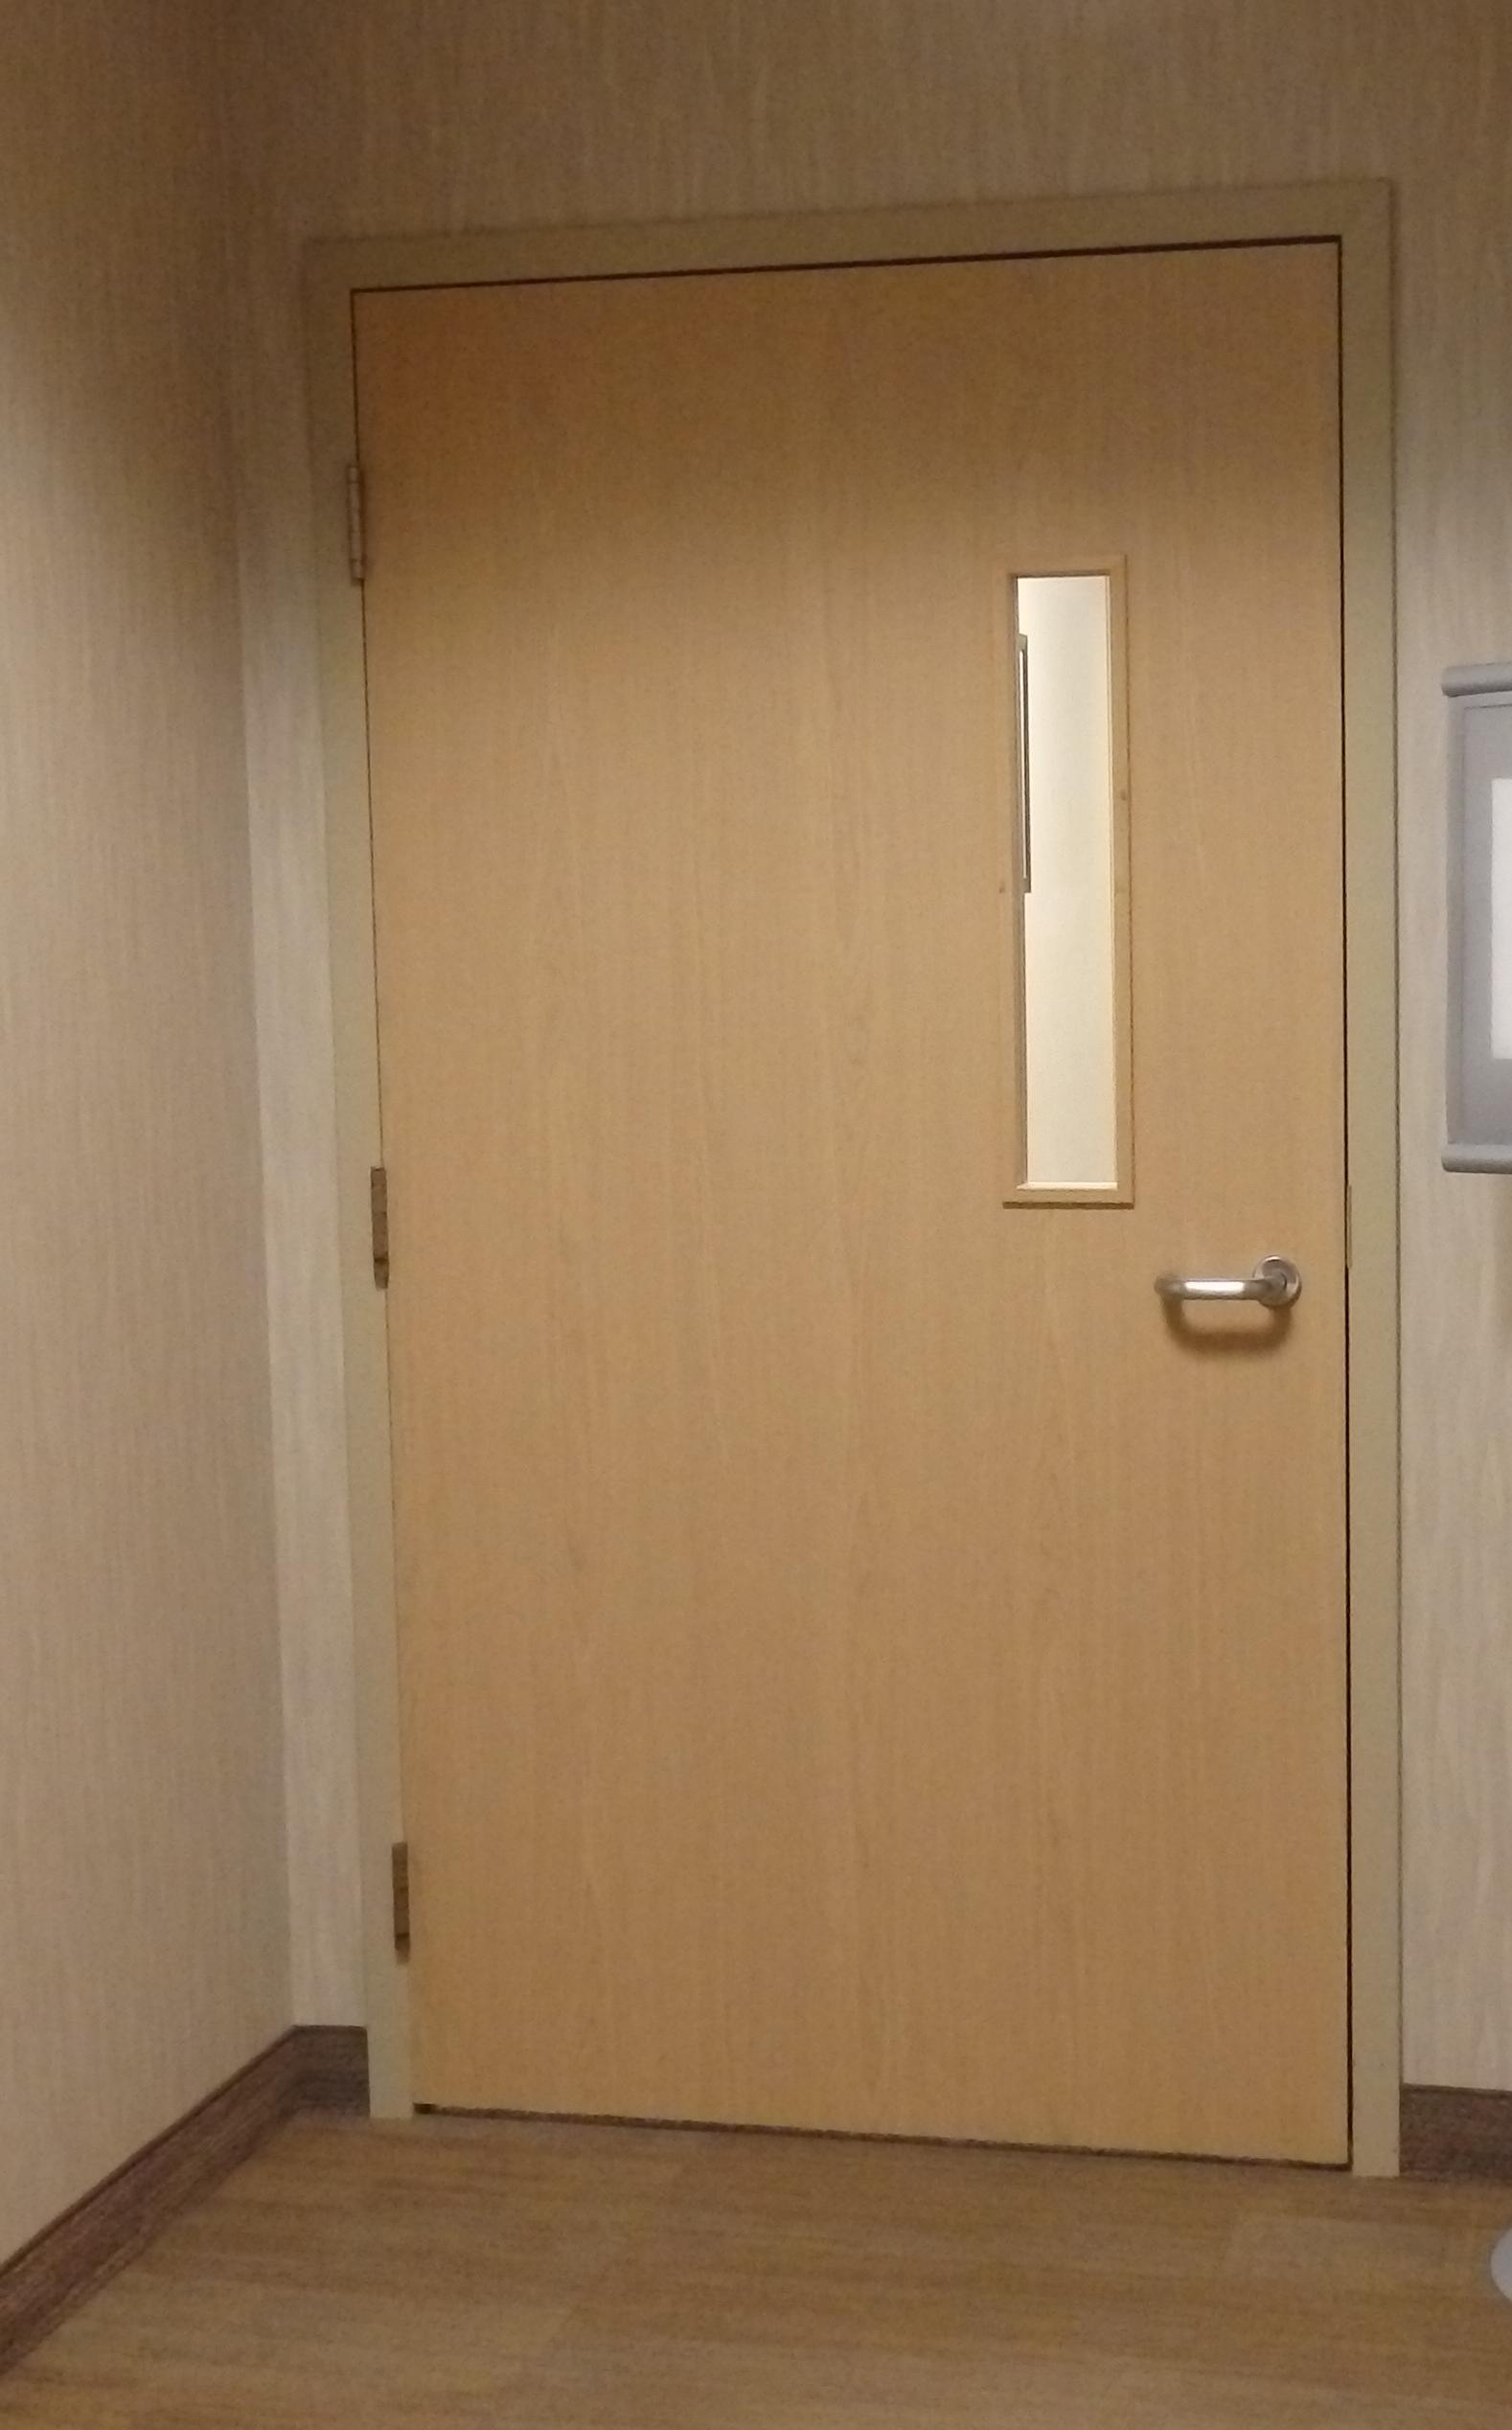door: (319, 256, 1397, 2169)
